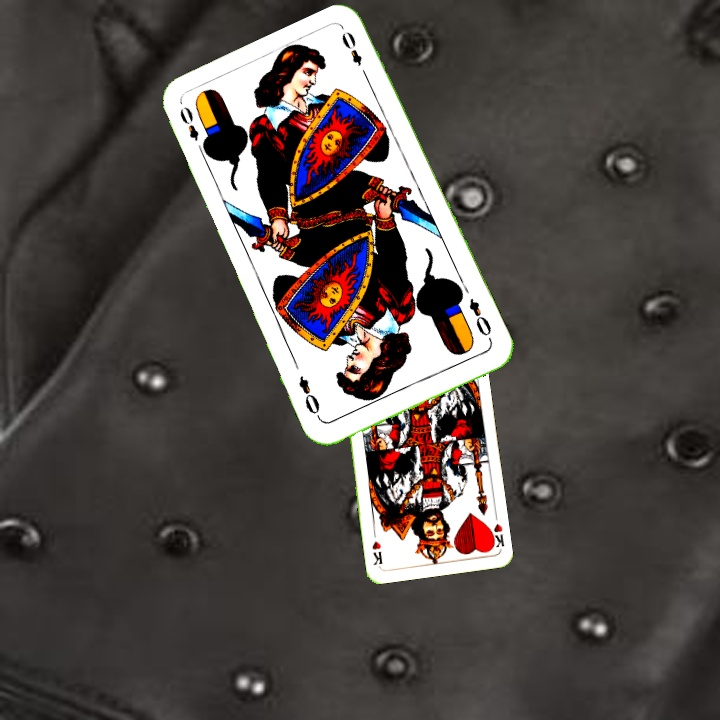EO: (175, 102, 209, 158), (465, 294, 495, 344)
HK: (485, 520, 507, 552)
